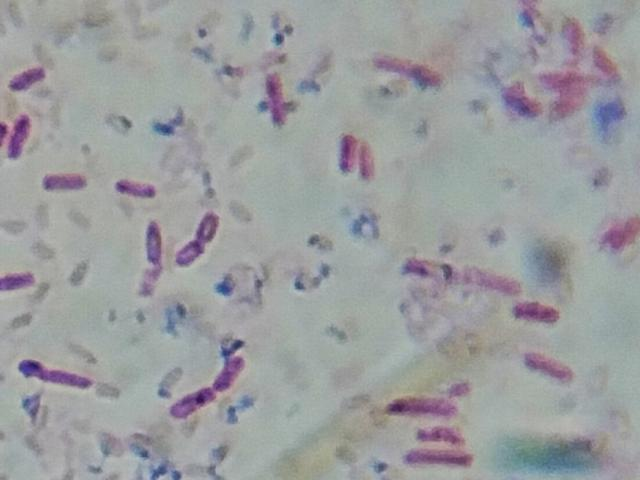E. coli: (403, 250, 529, 293), (19, 356, 87, 393), (261, 73, 296, 131), (516, 349, 574, 384), (503, 290, 566, 322), (605, 200, 640, 257), (385, 389, 458, 415), (208, 355, 250, 397), (376, 55, 440, 82), (402, 450, 484, 469), (173, 386, 206, 429), (11, 110, 33, 165), (409, 422, 467, 442), (545, 62, 599, 83), (193, 209, 224, 245), (145, 215, 169, 261), (9, 63, 51, 89), (118, 172, 155, 200), (43, 169, 87, 191), (1, 262, 33, 290), (505, 85, 538, 112), (552, 83, 574, 120), (173, 245, 200, 275), (358, 137, 374, 186), (341, 129, 358, 175), (591, 43, 612, 77), (561, 15, 576, 49)
